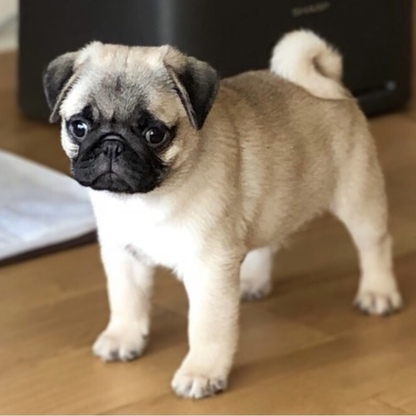Pug: (38, 25, 405, 403)
